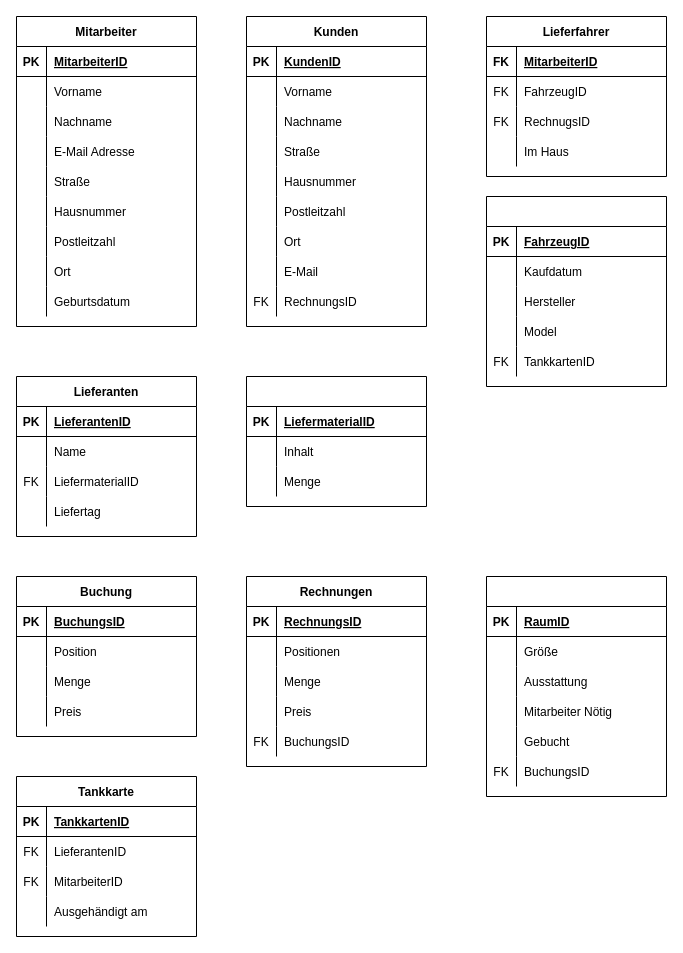
Some shapes in this 683 by 953 pixel diagram are drawn without their labels. Here are the shapes that lost their labels. From the top down, the box of each, then its label:
(486, 196, 666, 386): Fahrzeuge
(246, 376, 426, 506): Liefermeterial
(486, 576, 666, 796): Räume
